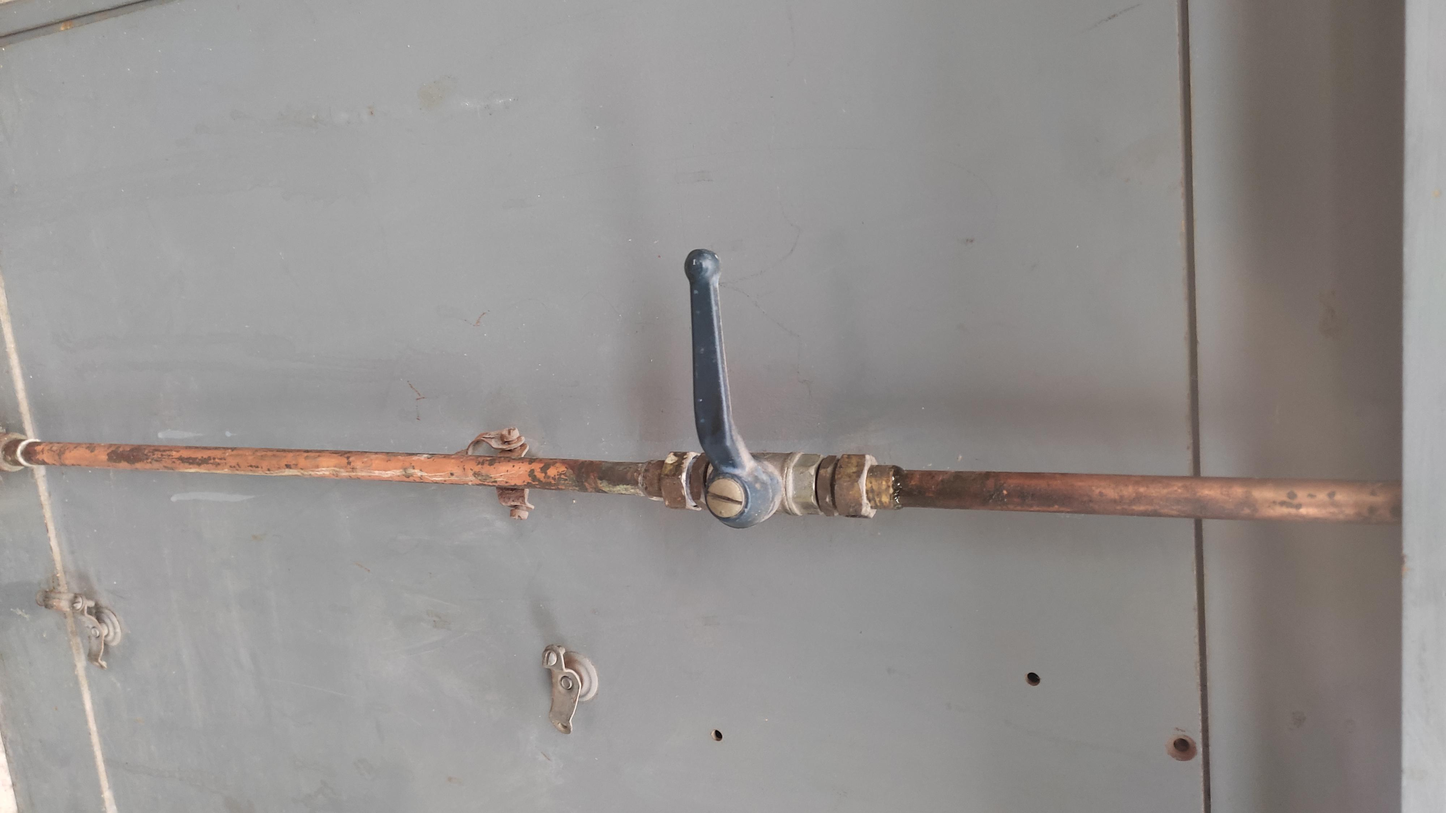closed valve: (673, 245, 831, 537)
